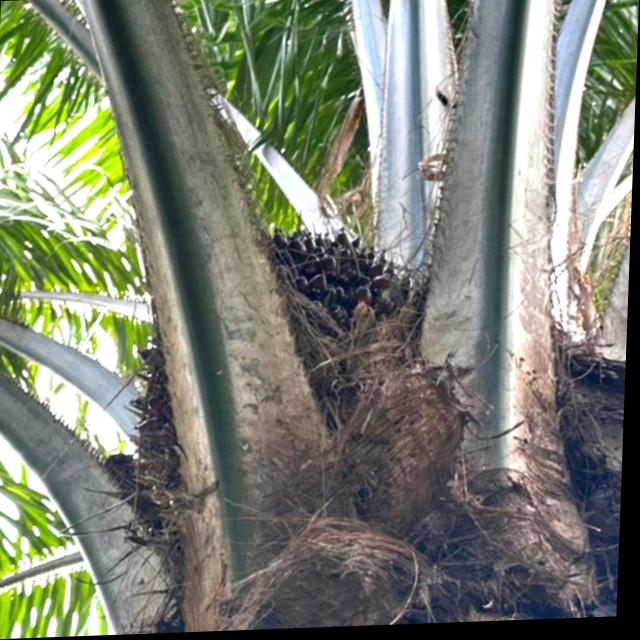ripe: (245, 204, 446, 368)
